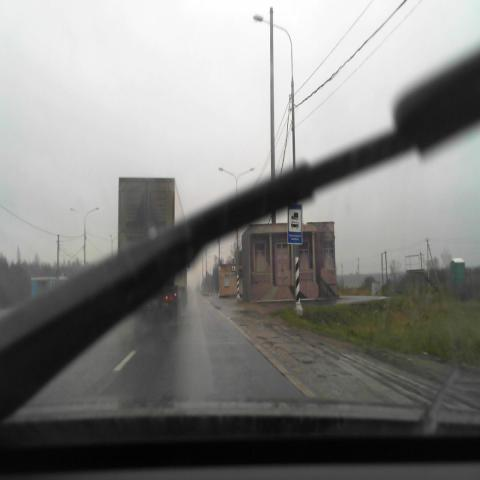7_14: (288, 204, 302, 244)
